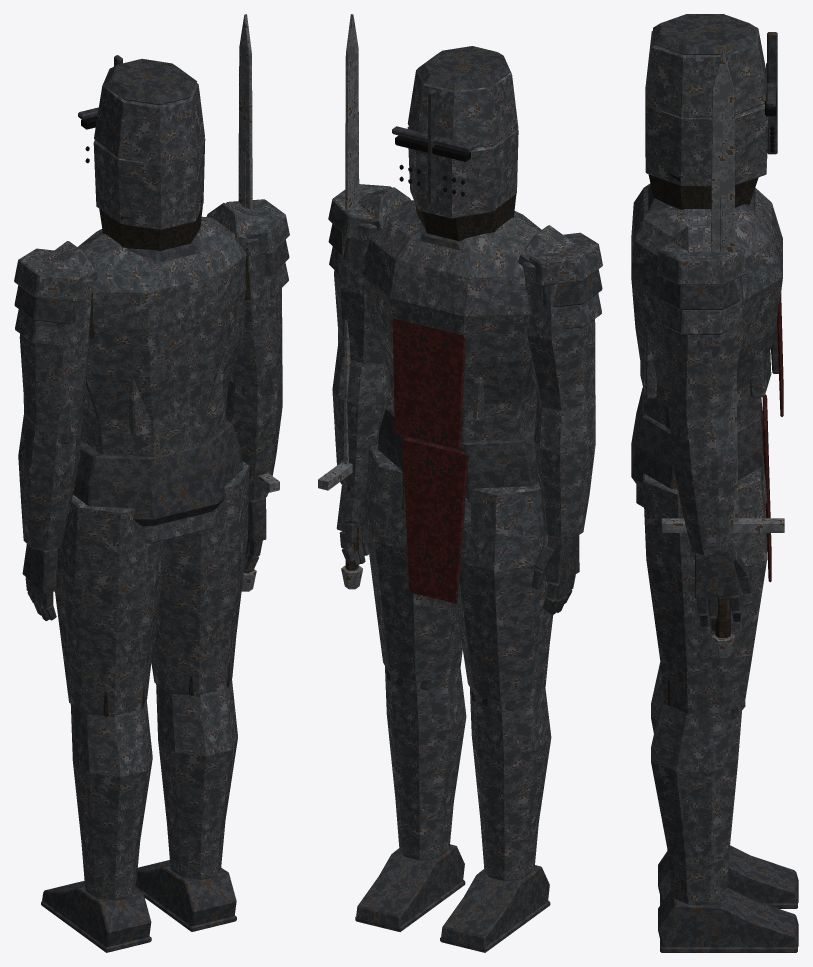
The model's file is rycerz.glb.
3 renders of one model, left to right at view 1: azimuth 30°, elevation 25°; view 2: azimuth 150°, elevation 25°; view 3: azimuth 270°, elevation 25°, orthographic. The views are drawn at different scales.
Parts seen in each view (by area): view 1: tors, glowa, udo_l, udo_p, ramie_l, golen_l, golen_p, miednica, ramie_p, przedramie_l, stopa_l, stopa_p (+4 smaller); view 2: tors, glowa, udo_l, miednica, ramie_l, udo_p, golen_l, golen_p, ramie_p, przedramie_l, stopa_l, stopa_p (+4 smaller); view 3: glowa, udo_p, tors, golen_p, ramie_p, przedramie_p, stopa_p, bron, miednica, stopa_l, dlon_p, golen_l.
Part boxes in pixels (box(x1,y1,x2,y2)): tors: box(77, 216, 250, 457); glowa: box(78, 55, 205, 251); udo_l: box(55, 494, 164, 717); udo_p: box(151, 461, 248, 696); ramie_l: box(14, 241, 98, 444); golen_l: box(70, 701, 152, 900); golen_p: box(156, 679, 237, 880); miednica: box(73, 419, 243, 543); ramie_p: box(206, 199, 289, 395); przedramie_l: box(18, 415, 81, 550); stopa_l: box(41, 880, 151, 952); stopa_p: box(136, 860, 236, 931); tors: box(361, 200, 541, 449); glowa: box(392, 46, 518, 240); udo_l: box(456, 482, 553, 710); miednica: box(378, 403, 538, 603); ramie_l: box(518, 225, 602, 410); udo_p: box(365, 444, 462, 689); golen_l: box(470, 687, 551, 881); golen_p: box(385, 666, 466, 860); ramie_p: box(328, 184, 410, 366); przedramie_l: box(534, 398, 595, 538); stopa_l: box(440, 865, 550, 952); stopa_p: box(355, 844, 465, 931); glowa: box(645, 14, 777, 209); udo_p: box(643, 468, 767, 718); tors: box(631, 183, 783, 427); golen_p: box(651, 693, 742, 905); ramie_p: box(656, 225, 746, 437); przedramie_p: box(669, 413, 737, 556); stopa_p: box(658, 887, 798, 952); bron: box(661, 49, 784, 658); miednica: box(631, 387, 771, 582); stopa_l: box(658, 845, 798, 908); dlon_p: box(695, 550, 751, 631); golen_l: box(651, 662, 662, 732).
Size of the model in its own units: 0.5841 by 1.9 by 0.3132.
7 materials, 7 textured.
